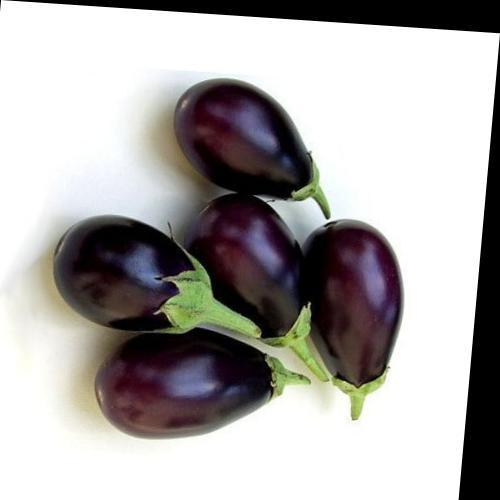eggplant: (54, 96, 430, 454)
